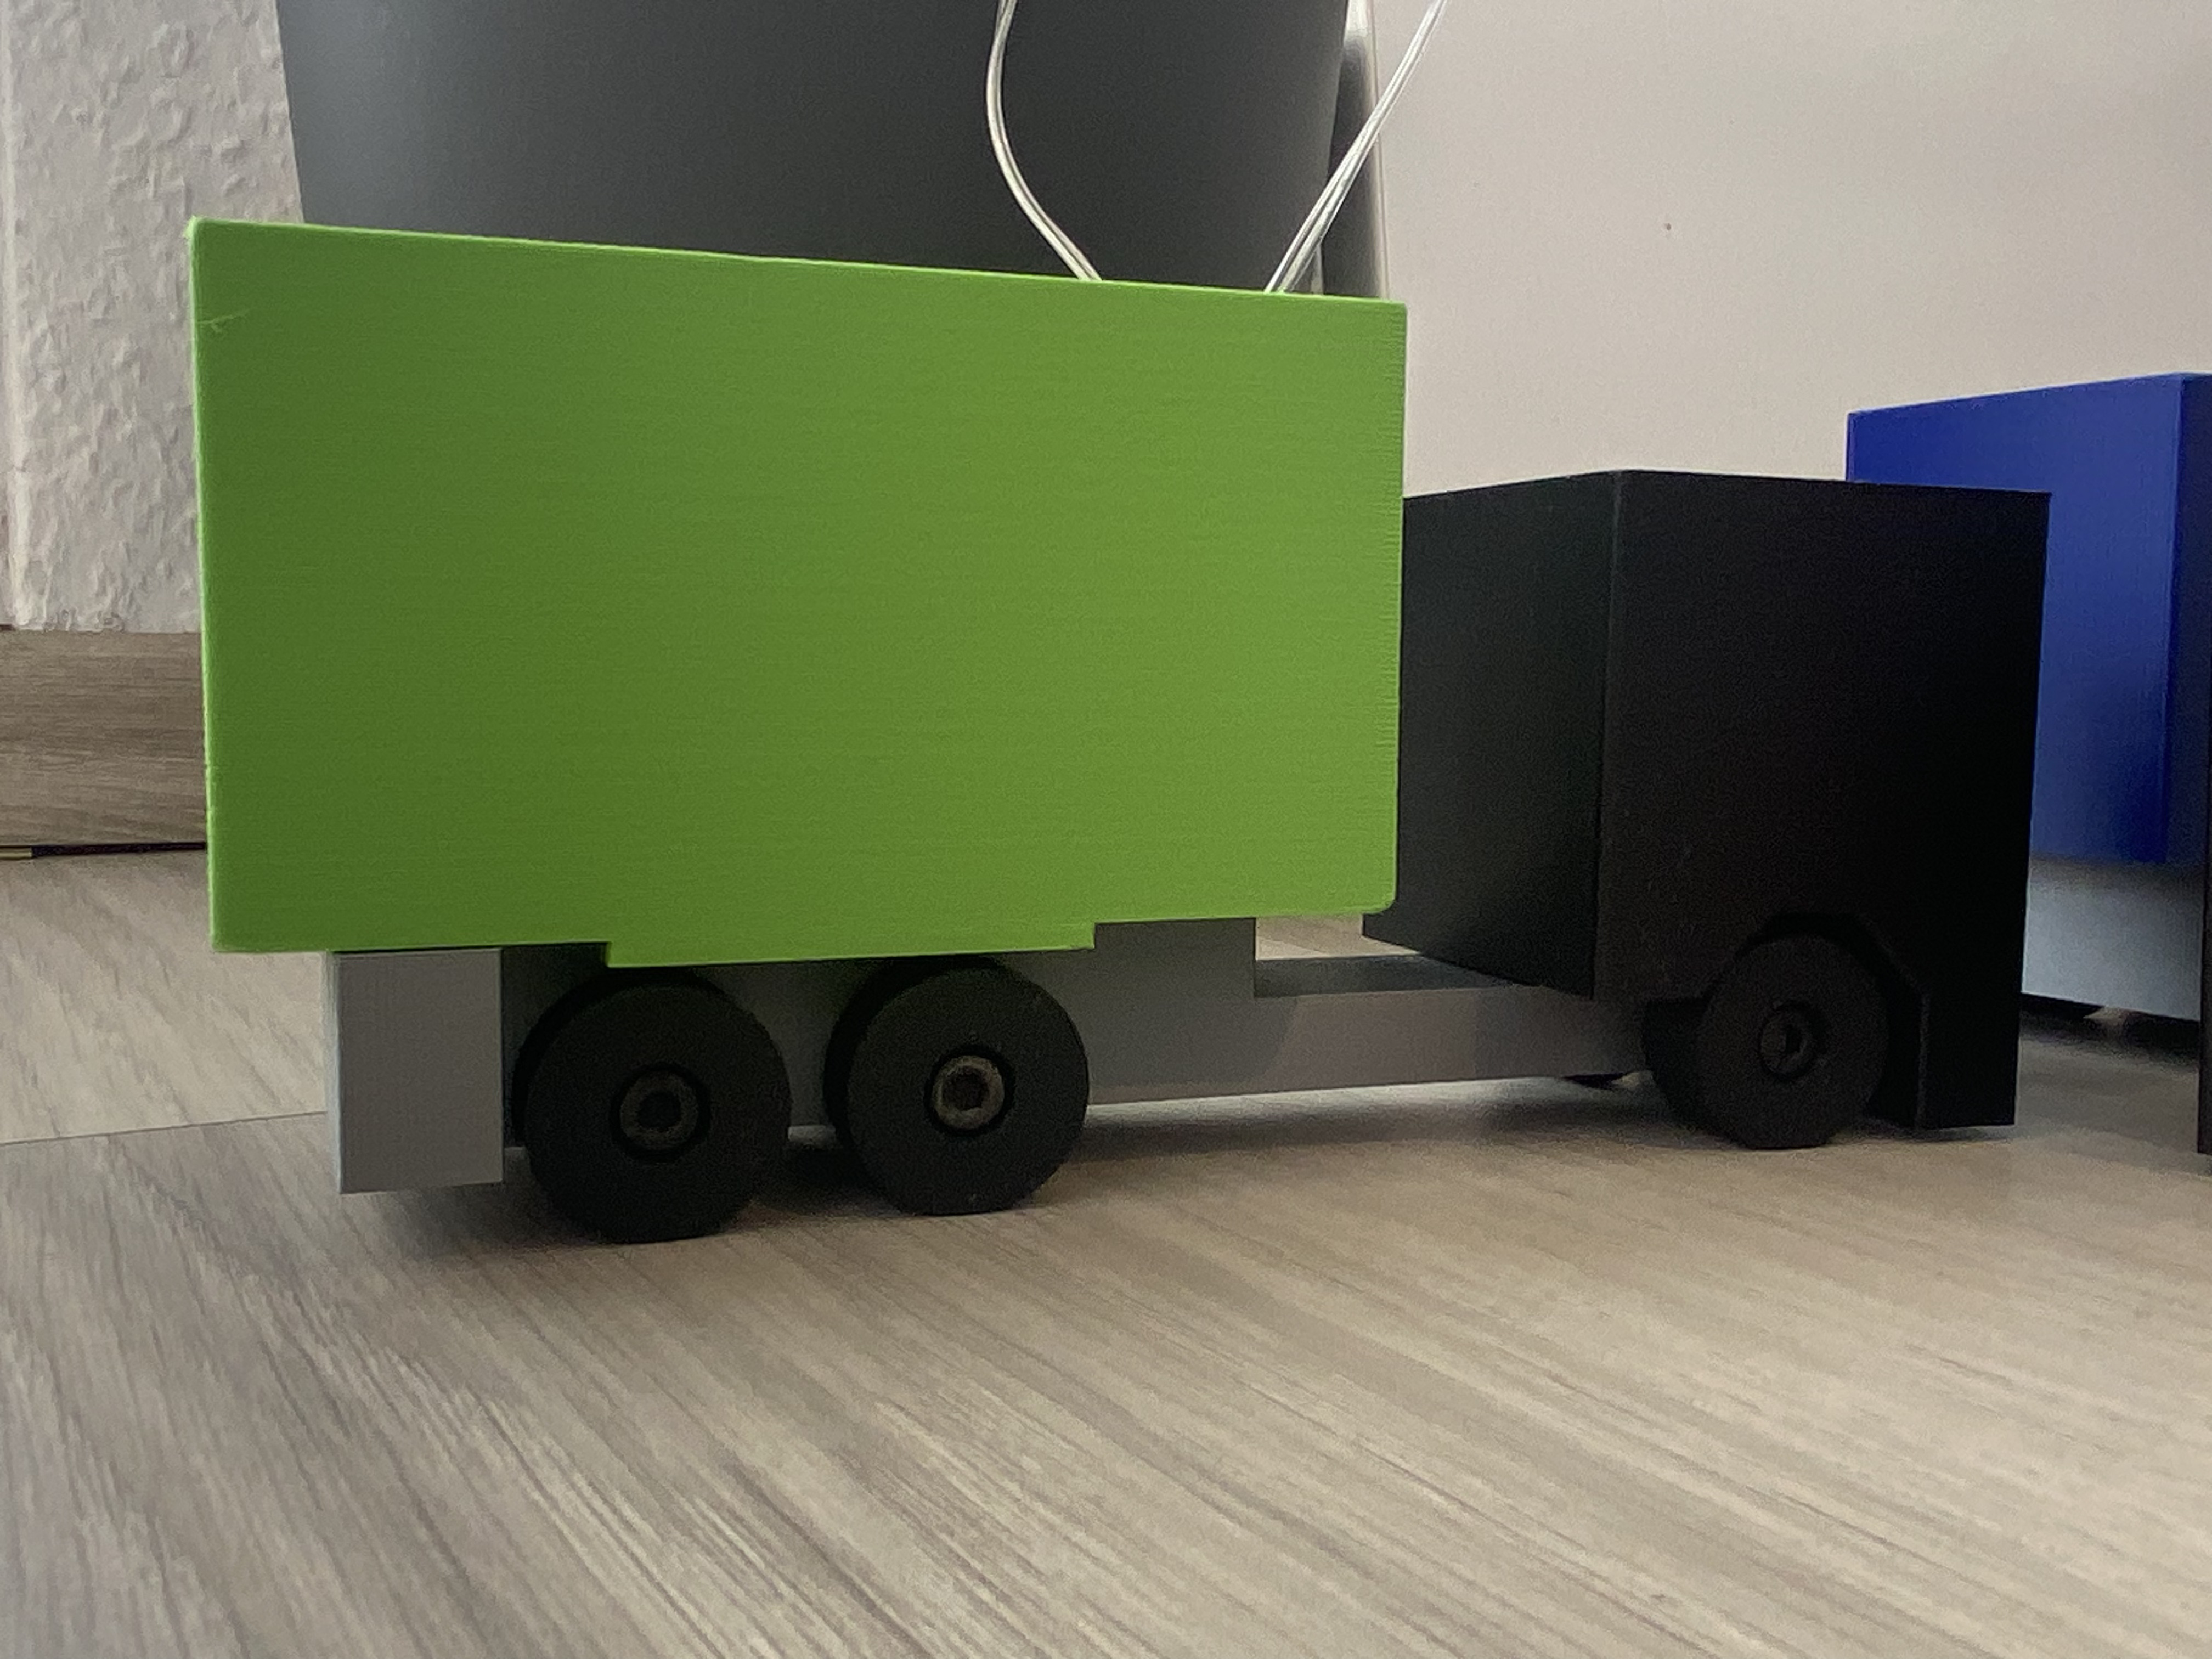blue_truck: (1843, 368, 2212, 1025)
green_truck: (193, 204, 2048, 1204)
